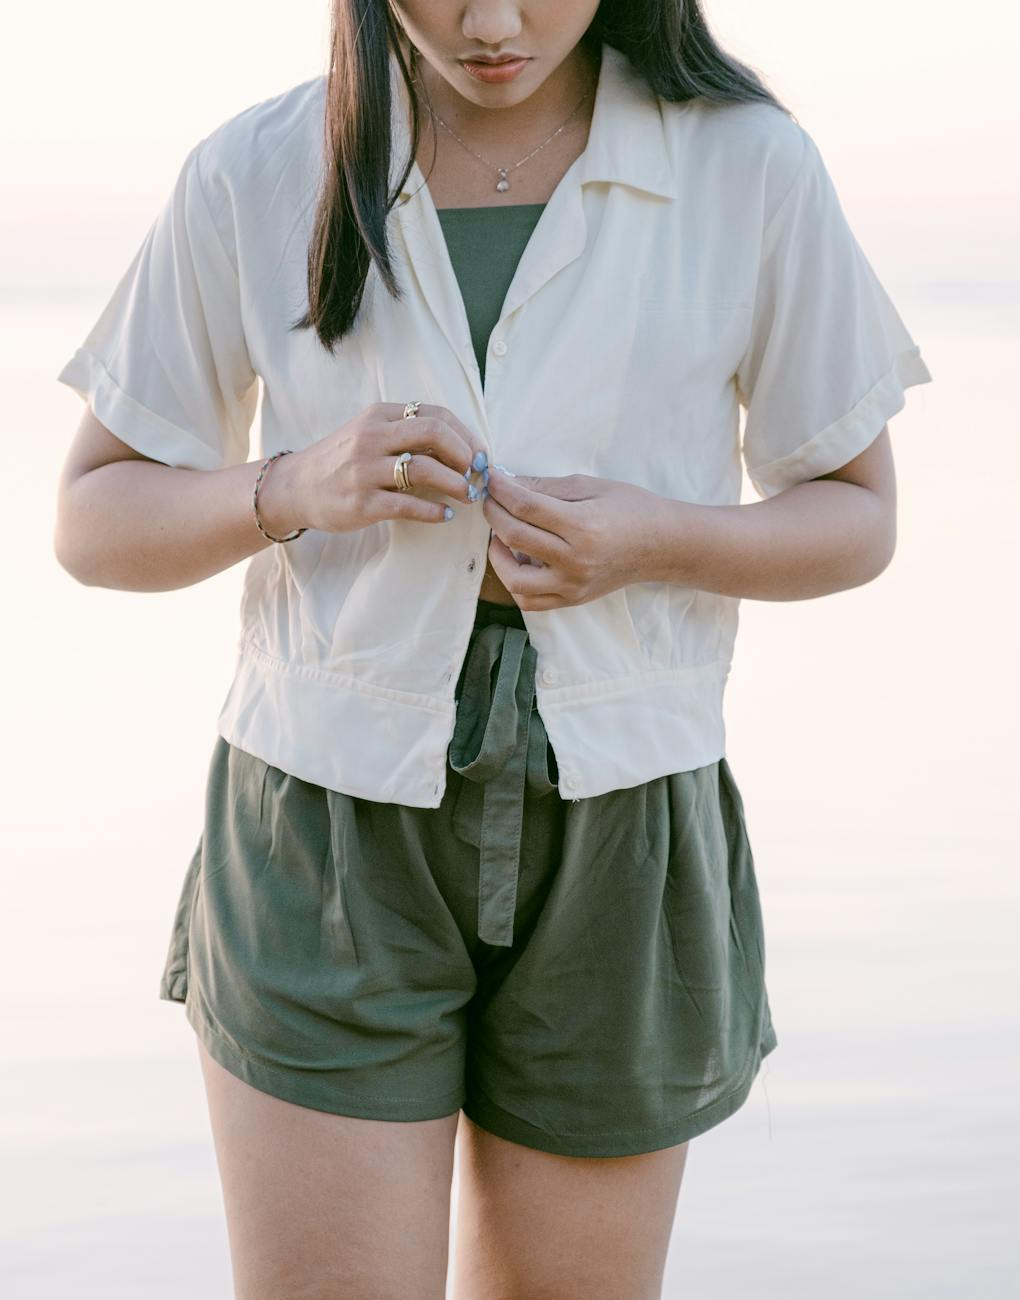shorts: (154, 738, 784, 1155)
